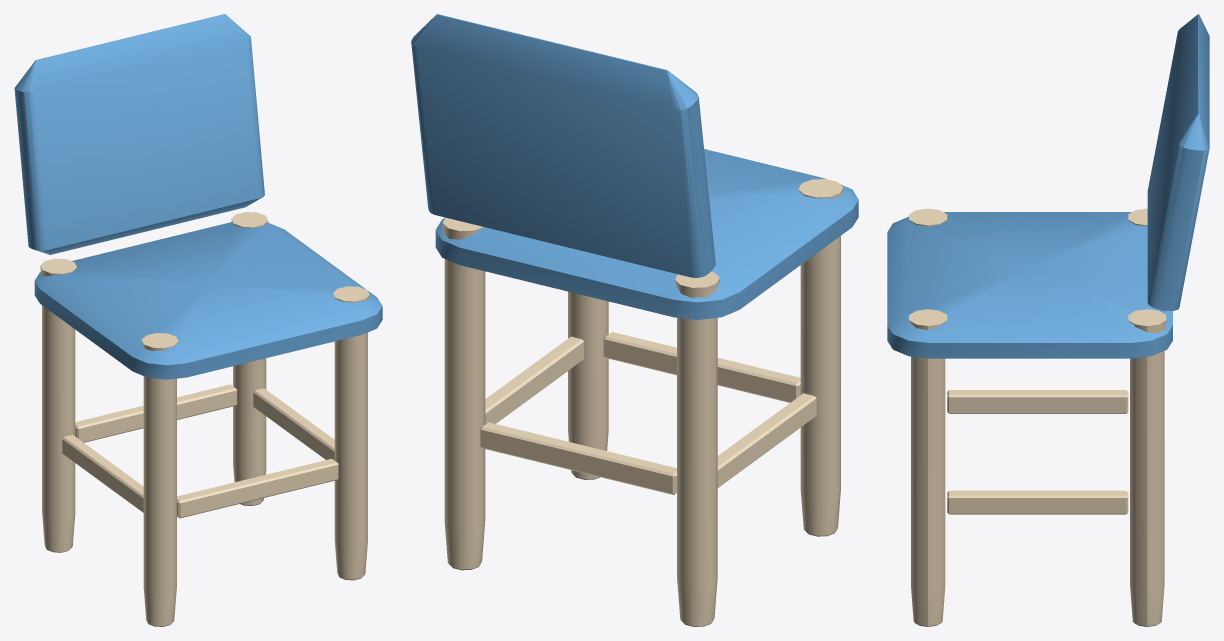
The model's file is nursery-and-primary-classroom-child-chair-tall-44242a4f__34986.glb.
3 views of the same model, side by side, from view 1: azimuth 30°, elevation 25°; view 2: azimuth 150°, elevation 25°; view 3: azimuth 270°, elevation 25° (orthographic). The views are drawn at different scales.
Parts seen in each view (by area): view 1: child-chair-tall; view 2: child-chair-tall; view 3: child-chair-tall.
Boxes of the visible parts, <box> form: child-chair-tall: <box>14,14,382,626</box>; child-chair-tall: <box>411,14,858,626</box>; child-chair-tall: <box>887,14,1209,626</box>.
Bounding box in the file's own units: 0.32 × 0.5868 × 0.3386.
